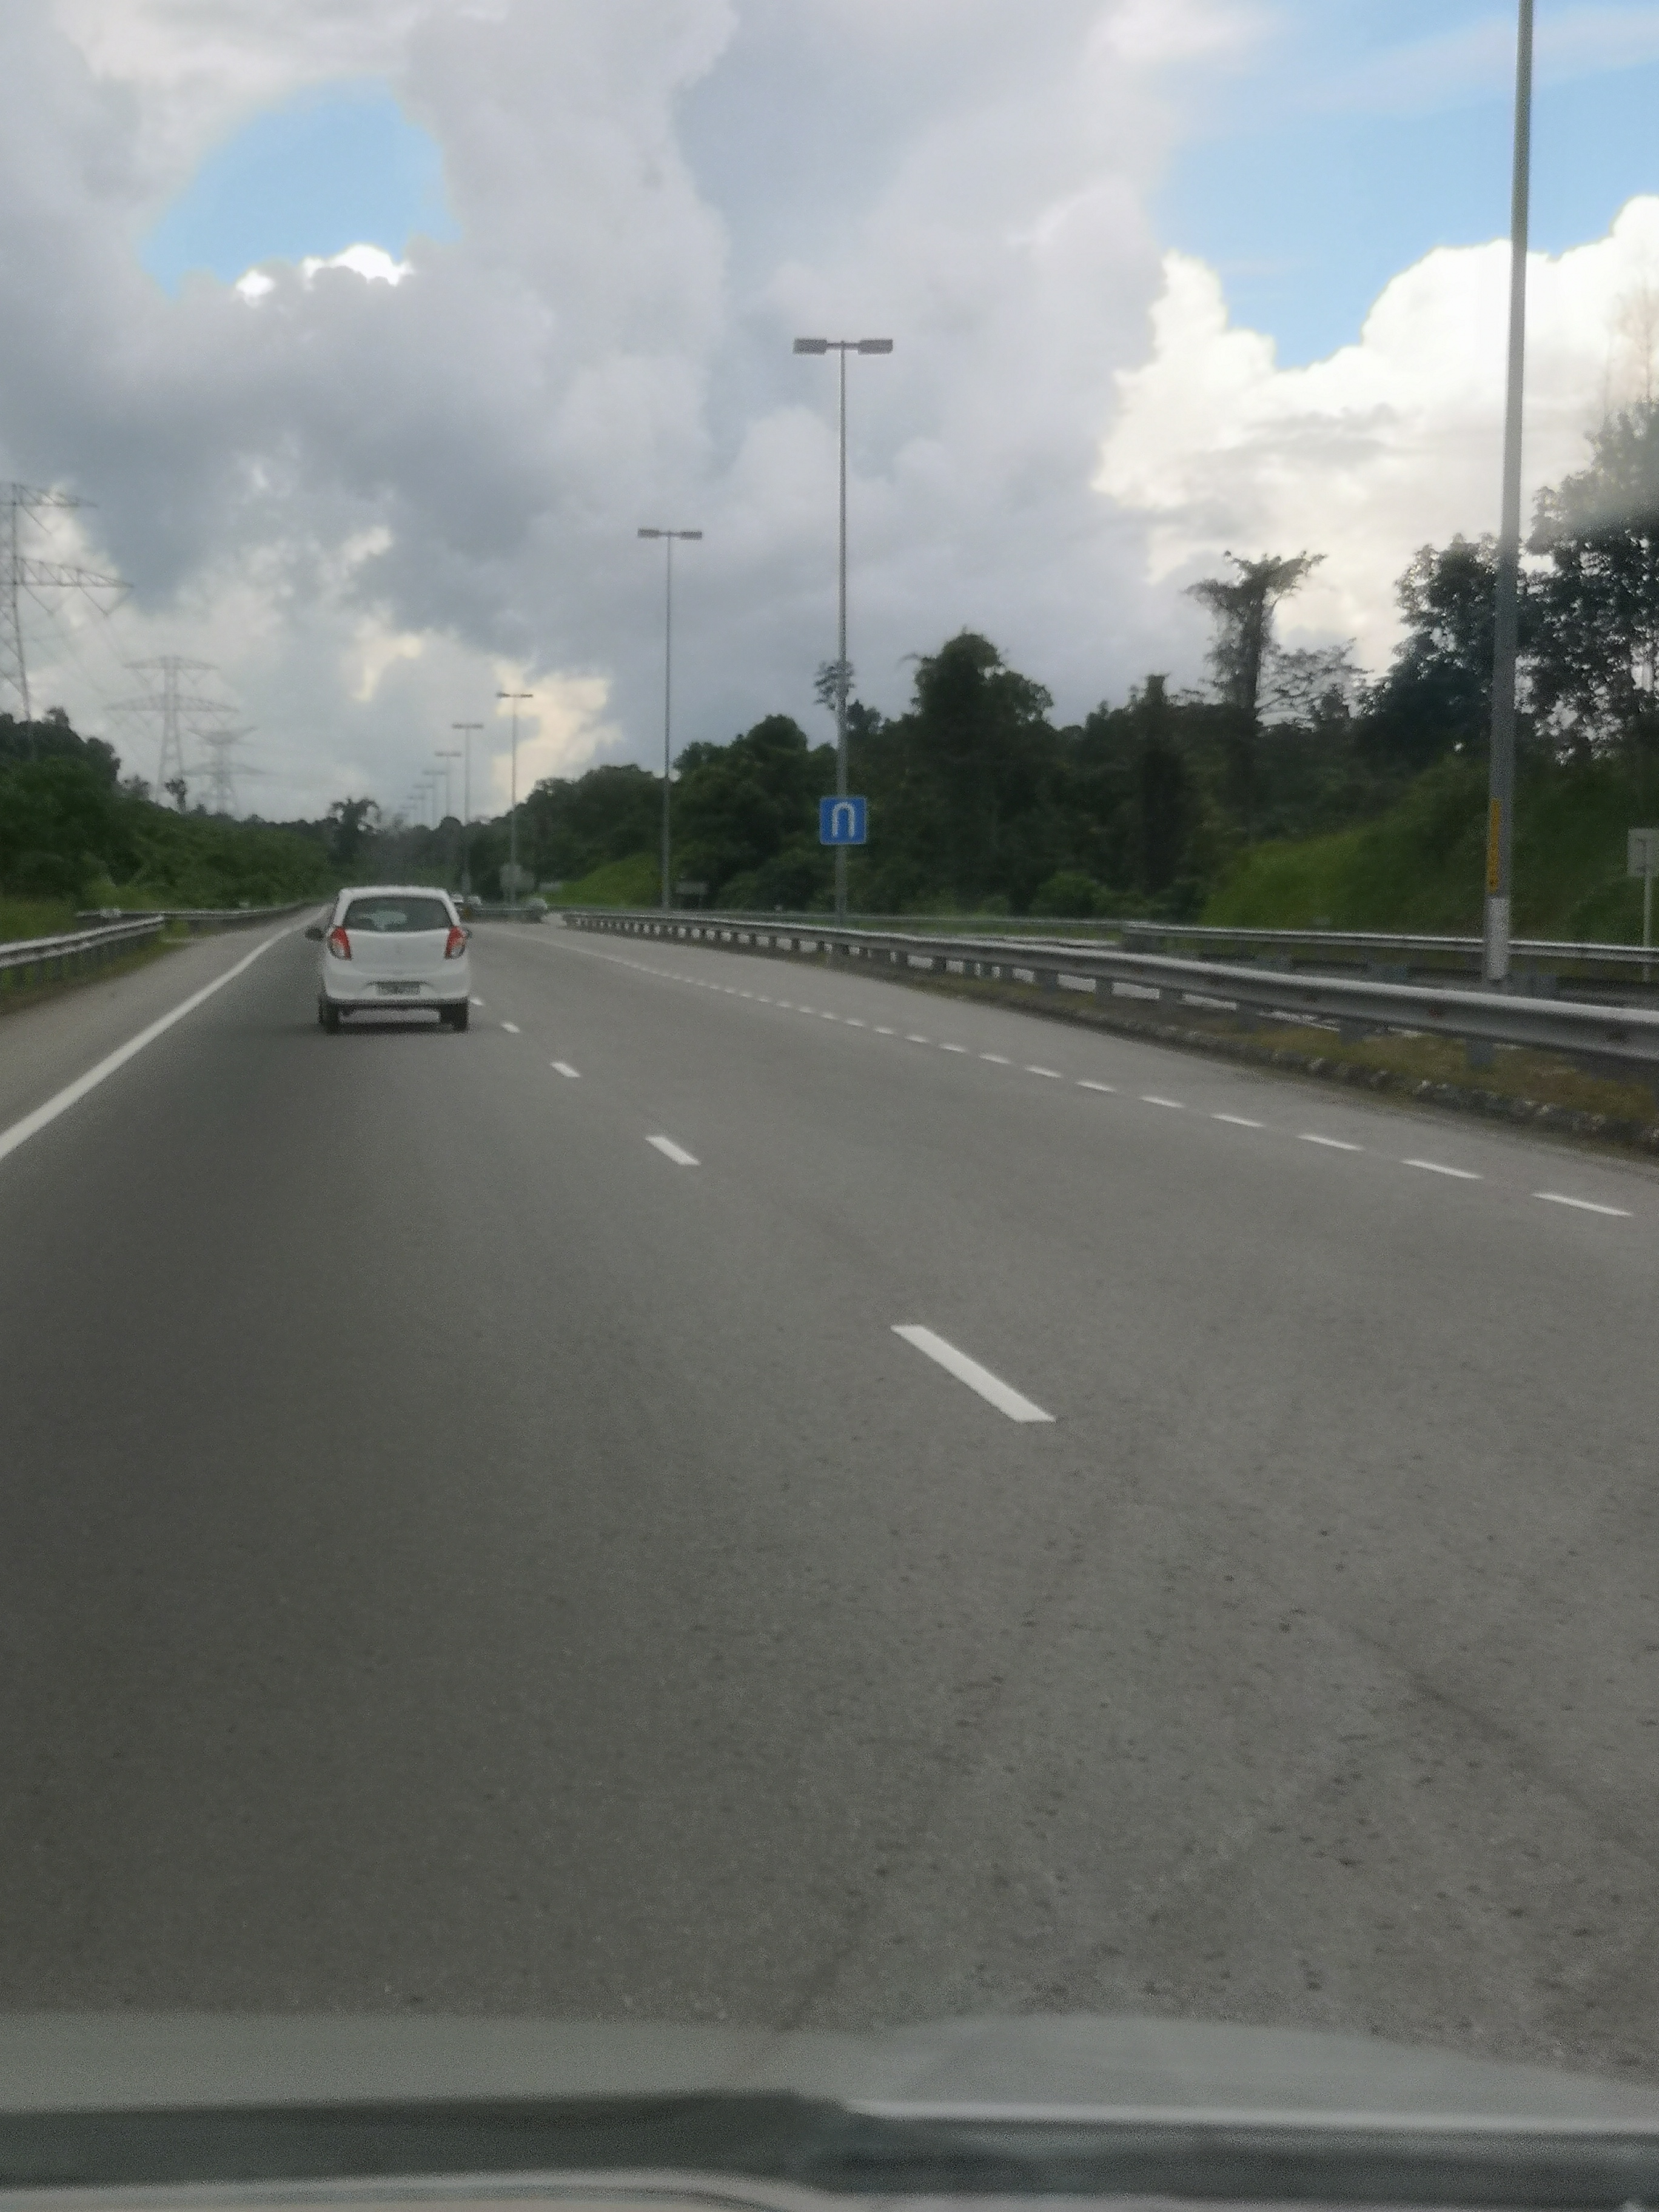U-turn: (816, 780, 880, 853)
